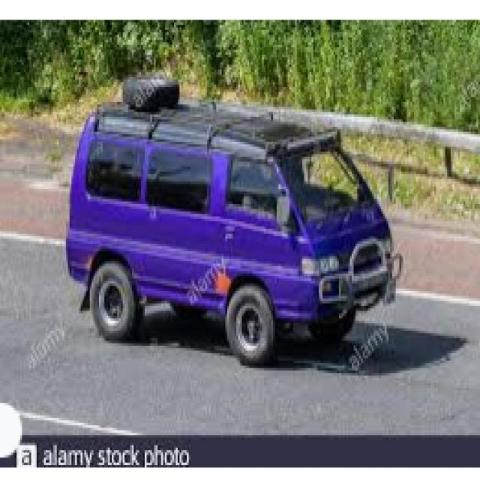van: (64, 75, 407, 371)
